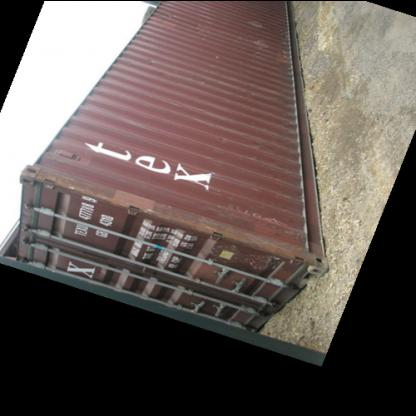Damage: (200, 198, 314, 278), (244, 88, 272, 170), (240, 14, 270, 63), (206, 123, 236, 153), (130, 45, 159, 75), (184, 7, 210, 36), (206, 46, 228, 64)
